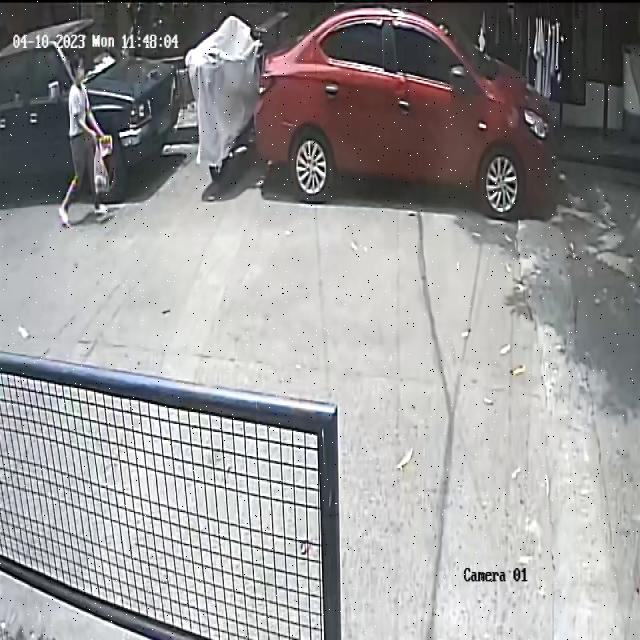garbage_dumping: (90, 136, 111, 199)
